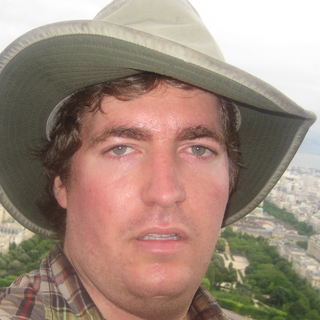eye: (96, 138, 148, 163), (171, 140, 226, 162)
